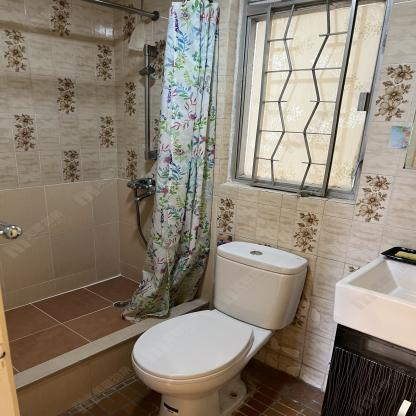Toilet: (130, 239, 309, 415)
Toilet Sink: (332, 247, 416, 347)
Water Cubicle: (0, 1, 226, 416)
